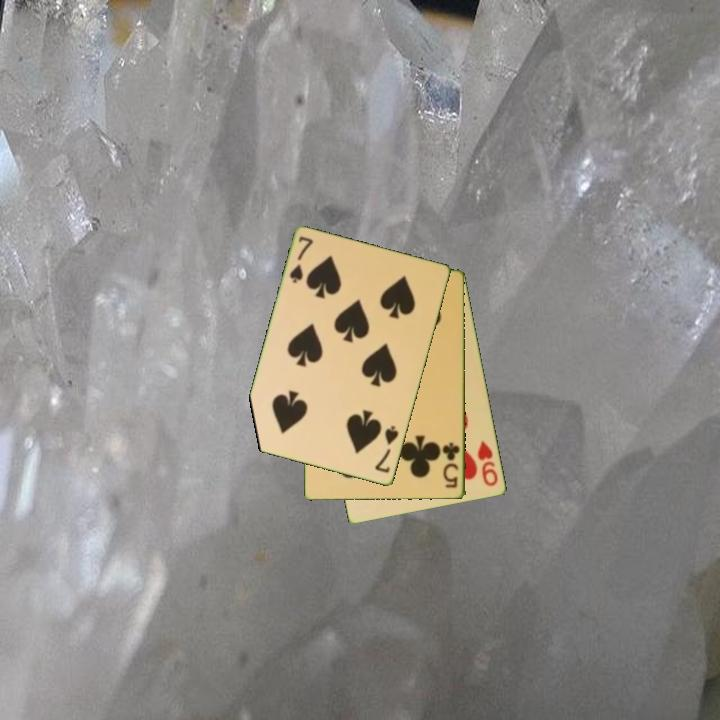5c: (439, 439, 463, 491)
7s: (372, 422, 402, 476), (286, 233, 316, 287)
9h: (474, 437, 501, 489)
